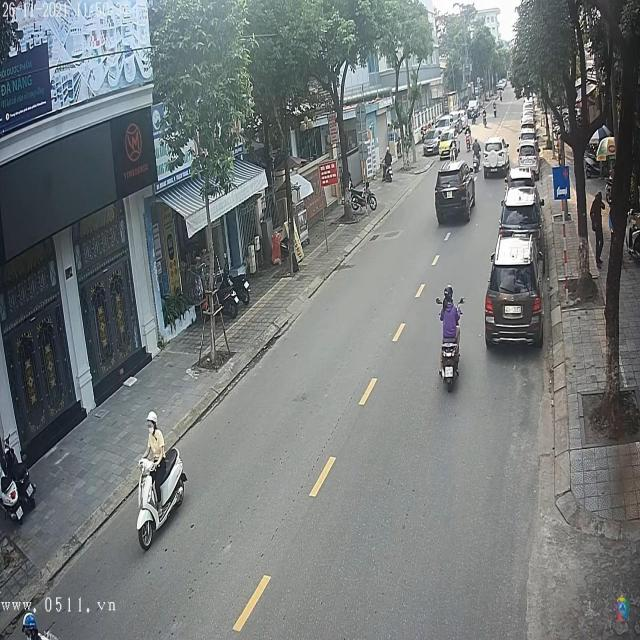car: (486, 239, 542, 348), (434, 162, 476, 228), (500, 185, 544, 239), (480, 138, 510, 178), (424, 127, 448, 156), (517, 146, 539, 173), (518, 130, 538, 148)
motorcycle: (130, 448, 189, 549), (440, 339, 461, 380)
